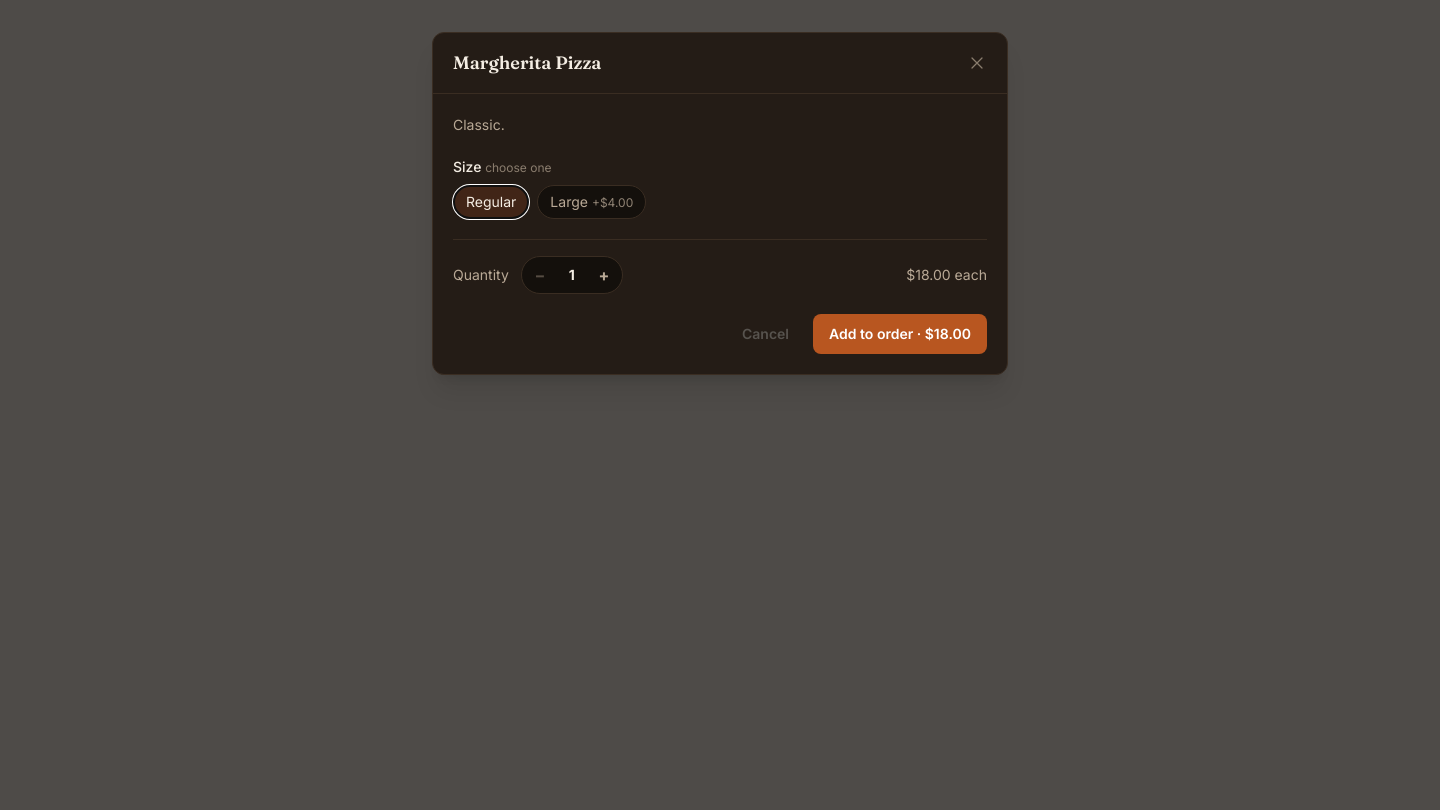
Test case: ItemOptionsModal › increases quantity and reflects it in the Add button total
Click the button named "One more Margherita Pizza": {"x": 604, "y": 275} top-left (586, 257), bottom-right (622, 293)
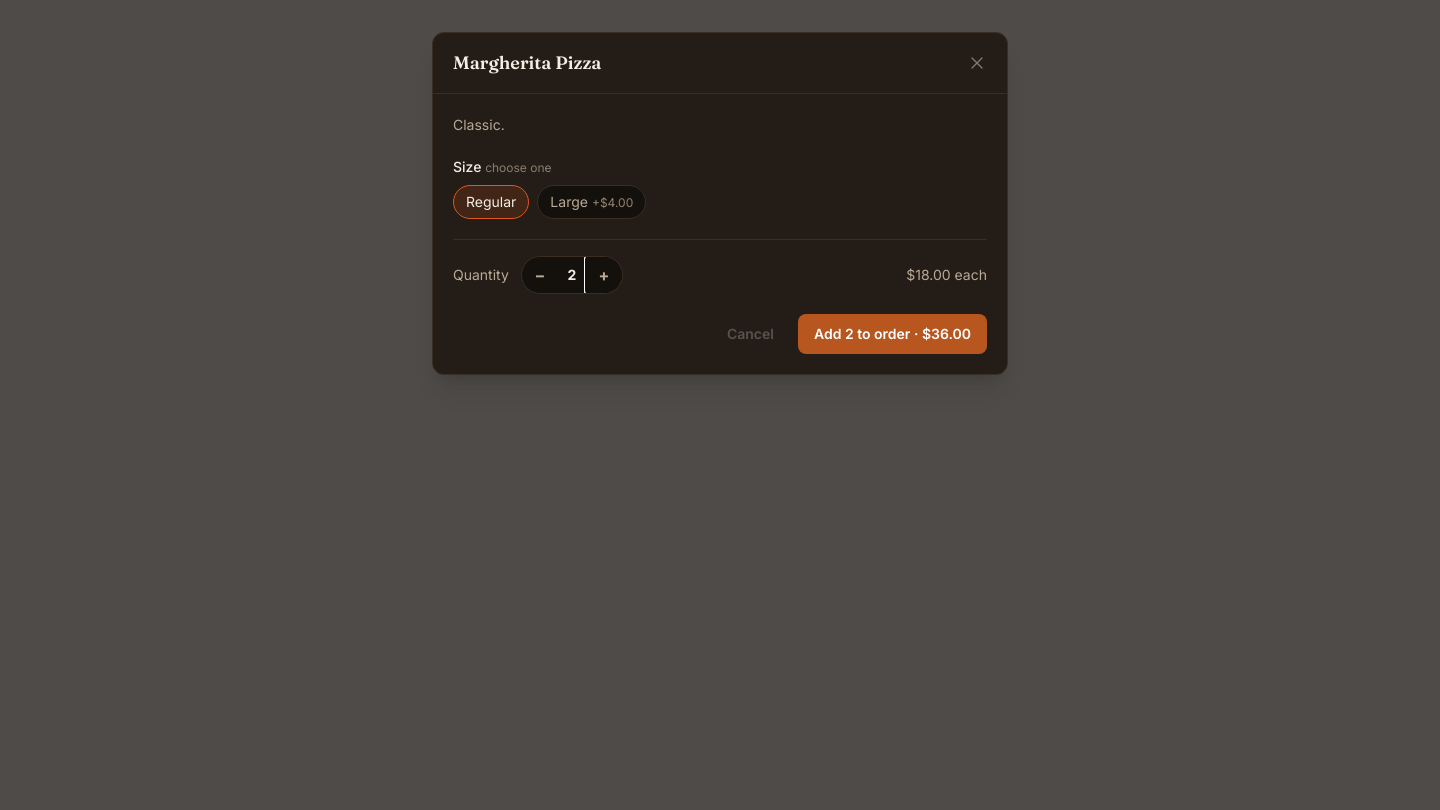
Result: the button "Add 2 to order · $36.00" is shown at top-left (798, 314), bottom-right (987, 354)
